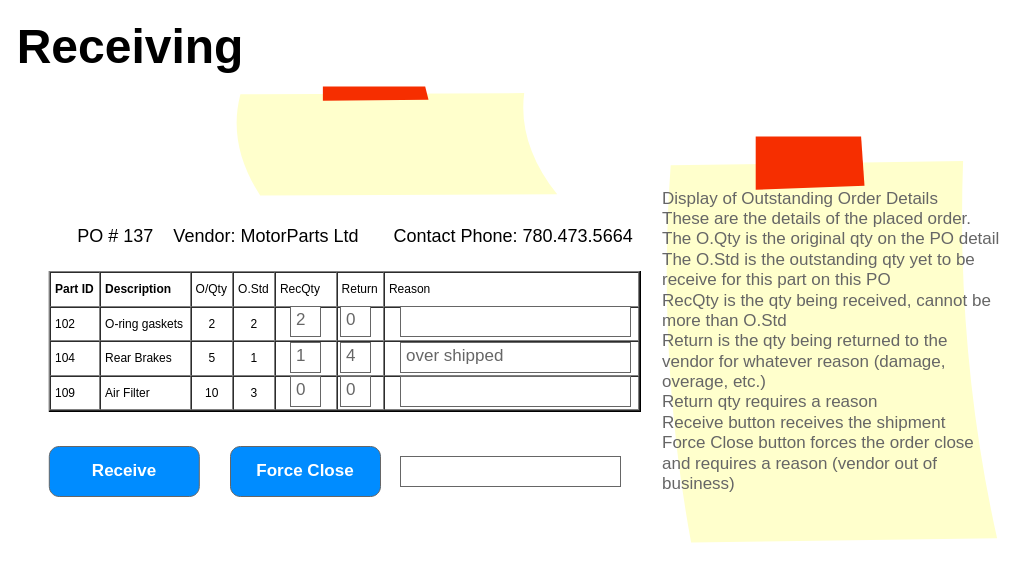
Image size: 1018x564. Some labels were removed from this diagram. Each missing label, with the centre of its shape:
"---reason for closing ----" goes at (x=510, y=471).
"Sample of partially received order this would be shipment # 2 or 3 or 4 ..." goes at (x=395, y=141).
